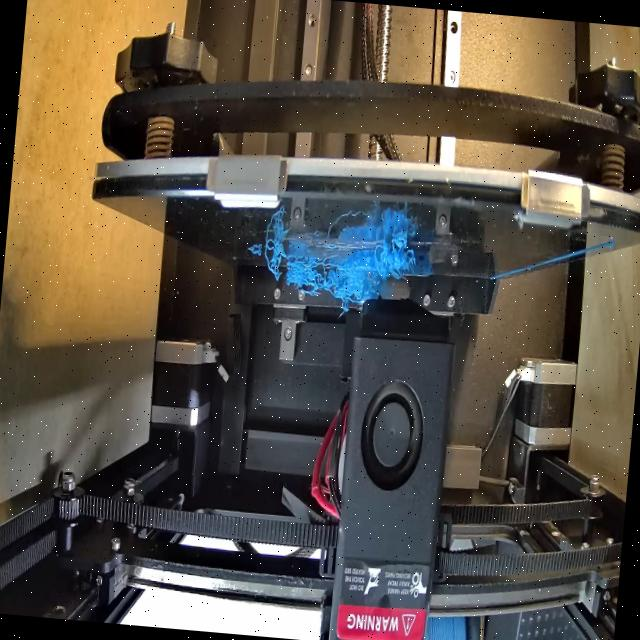spaghetti: (286, 255, 382, 298), (369, 234, 416, 285), (262, 242, 290, 286)
